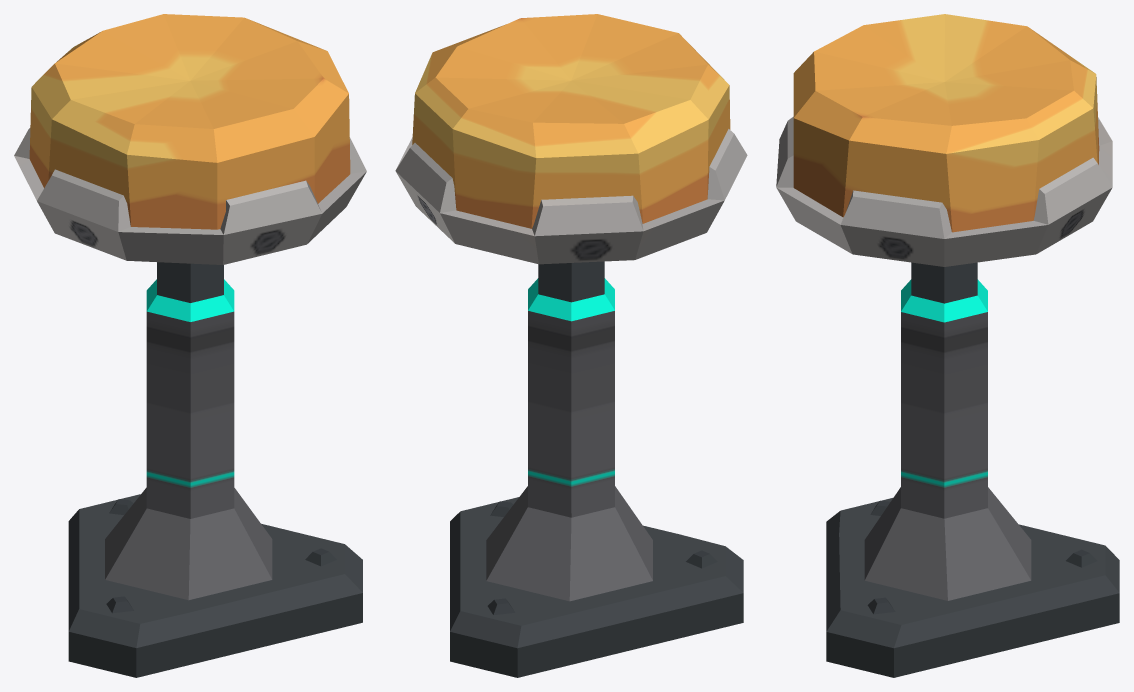
Rendered from SM_Prop_Stool_01.fbx.
The picture shows the model from 3 angles, left to right: view 1: azimuth 30°, elevation 25°; view 2: azimuth 150°, elevation 25°; view 3: azimuth 270°, elevation 25°; orthographic projection.
Visible parts, largest first — view 1: SM_Prop_Stool_01; view 2: SM_Prop_Stool_01; view 3: SM_Prop_Stool_01.
Boxes of the visible parts, <box> form: SM_Prop_Stool_01: <box>14,14,366,677</box>; SM_Prop_Stool_01: <box>395,14,747,677</box>; SM_Prop_Stool_01: <box>776,14,1119,677</box>.
Size of the model in its own units: 48.46 by 80.76 by 47.05.
